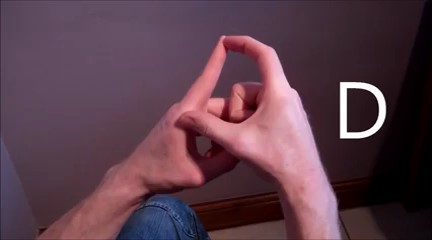D: (150, 23, 324, 194)
